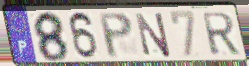6: (68, 10, 102, 62)
7: (167, 9, 201, 60)
8: (31, 10, 72, 63)
N: (133, 11, 174, 59)
P: (96, 11, 135, 60)
R: (200, 11, 242, 58)
